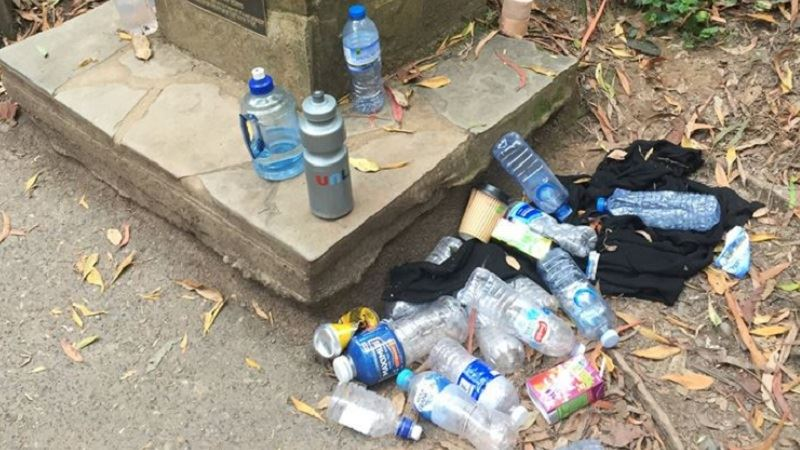bottle: (457, 268, 588, 357), (334, 296, 466, 384), (396, 369, 519, 450), (429, 338, 528, 427), (538, 249, 616, 349), (239, 68, 304, 181), (493, 132, 572, 220), (596, 188, 721, 232), (341, 5, 386, 114), (325, 384, 410, 440), (474, 311, 522, 370)
can: (313, 305, 381, 355)
container: (527, 360, 607, 426)
cup: (458, 185, 504, 243)
